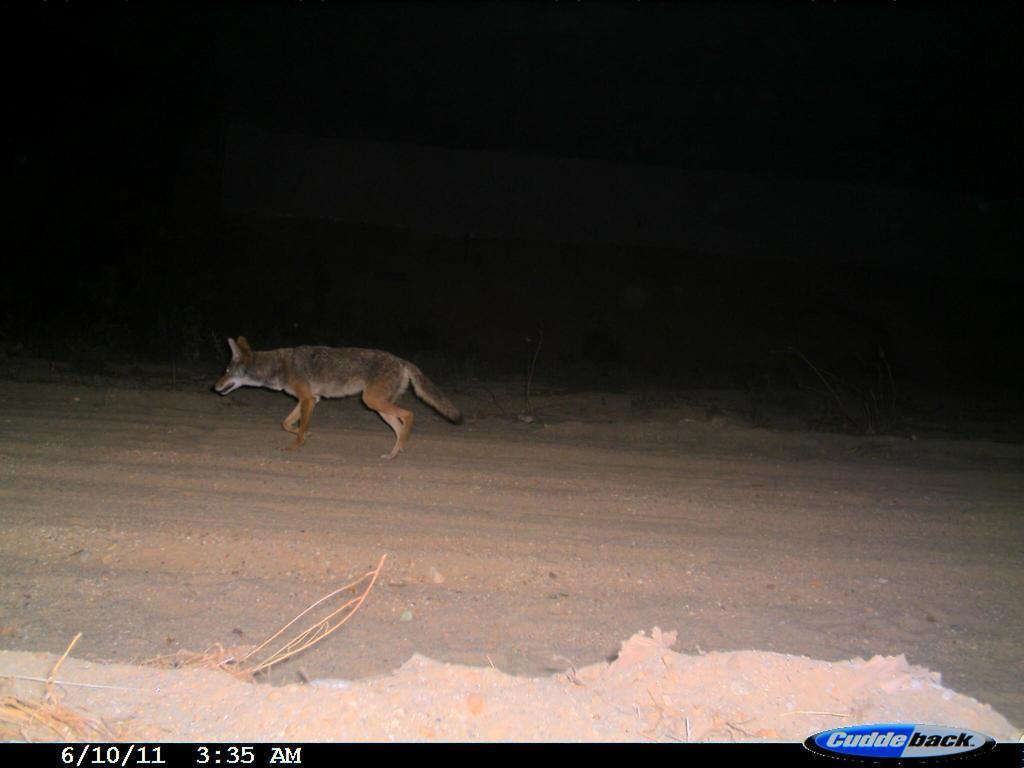coyote: (209, 329, 468, 466)
